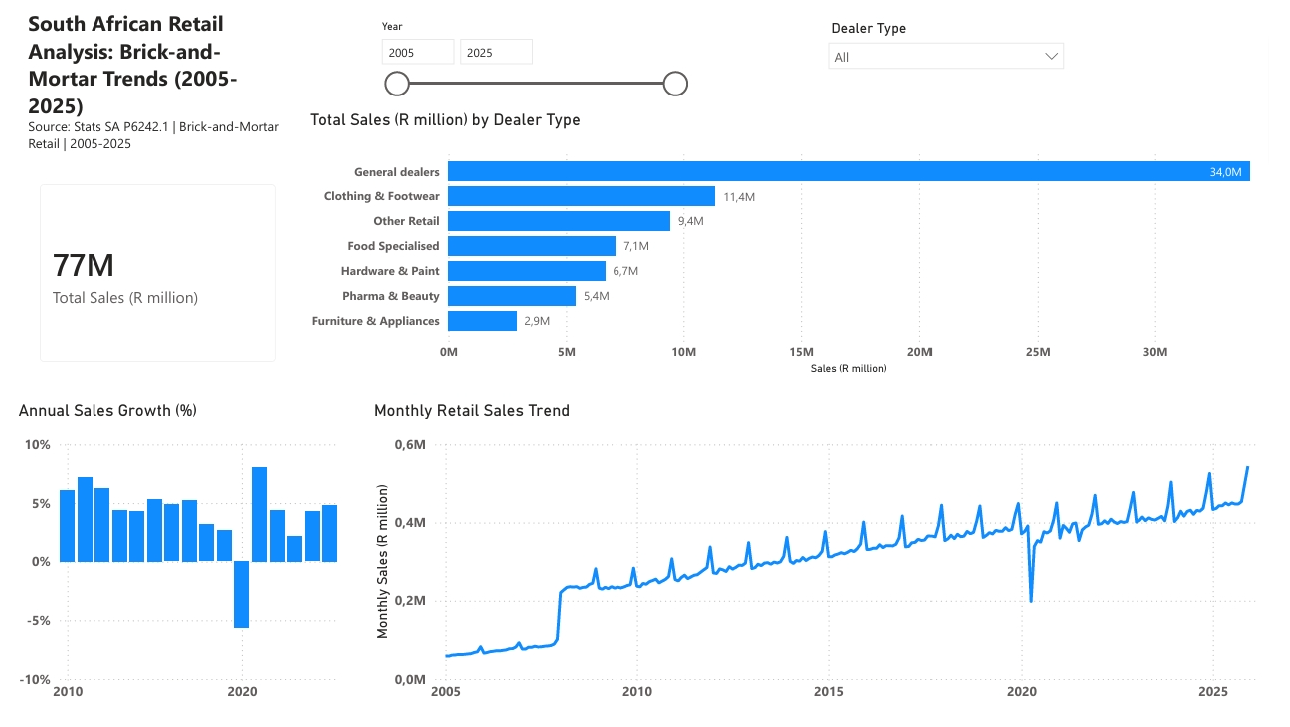

The page's visual inventory and layout, read from the dashboard file:
{"tool":"powerbi","page":{"name":"Overview","canvas":[1280,720],"ordinal":0},"visuals":[{"type":"clusteredBarChart","fields":{"Category":["Retail trade sales from 2002.Dealer Type"],"Y":["Retail trade sales from 2002.Total Sales"]},"box":[298.1,109.4,980.6,273.6],"z":0},{"type":"lineChart","title":"Monthly Retail Sales Trend","fields":{"Category":["Retail trade sales from 2002.Date.Variation.Date Hierarchy.Year","Retail trade sales from 2002.Date.Variation.Date Hierarchy.Quarter","Retail trade sales from 2002.Date.Variation.Date Hierarchy.Month","Retail trade sales from 2002.Date.Variation.Date Hierarchy.Day"],"Y":["Retail trade sales from 2002.Total Sales"]},"box":[362.9,404.6,917.3,315.4],"z":1000},{"type":"textbox","box":[10.1,0,275.4,168.1],"z":2000},{"type":"columnChart","title":"Annual Sales Growth (%)","fields":{"Y":["Retail trade sales from 2002.YoY Growth %"],"Category":["Retail trade sales from 2002.year"]},"box":[0,404.6,344.2,315.4],"z":3000},{"type":"cardVisual","fields":{"Data":["Retail trade sales from 2002.Total Sales"]},"box":[10.1,168.5,275,214.6],"z":4000},{"type":"slicer","fields":{"Values":["Retail trade sales from 2002.year"]},"box":[362.9,11.5,334.1,97.9],"z":4001},{"type":"slicer","fields":{"Values":["Retail trade sales from 2002.Dealer Type"]},"box":[822.2,11.5,259.2,72],"z":4002}]}

Visuals, with their boxes in screenshot pixels (x1, y1, x2, y2), scaled from the page's 1280x720 canvas onto the 1290x727 screenshot:
clusteredBarChart - Retail trade sales from 2002.Dealer Type x Retail trade sales from 2002.Total Sales: Rect(300, 110, 1289, 387)
"Monthly Retail Sales Trend" lineChart: Rect(366, 409, 1289, 726)
textbox: Rect(10, 0, 288, 170)
"Annual Sales Growth (%)" columnChart: Rect(0, 409, 347, 726)
cardVisual - Retail trade sales from 2002.Total Sales: Rect(10, 170, 287, 387)
slicer - Retail trade sales from 2002.year: Rect(366, 12, 702, 110)
slicer - Retail trade sales from 2002.Dealer Type: Rect(829, 12, 1090, 84)
